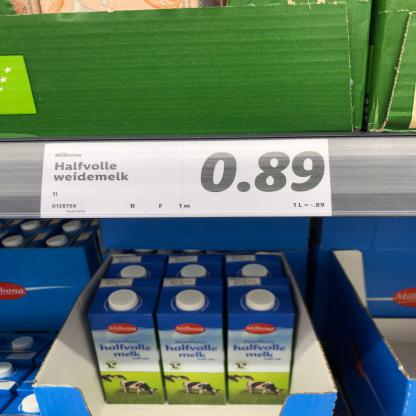prtg: (41, 140, 332, 220)
